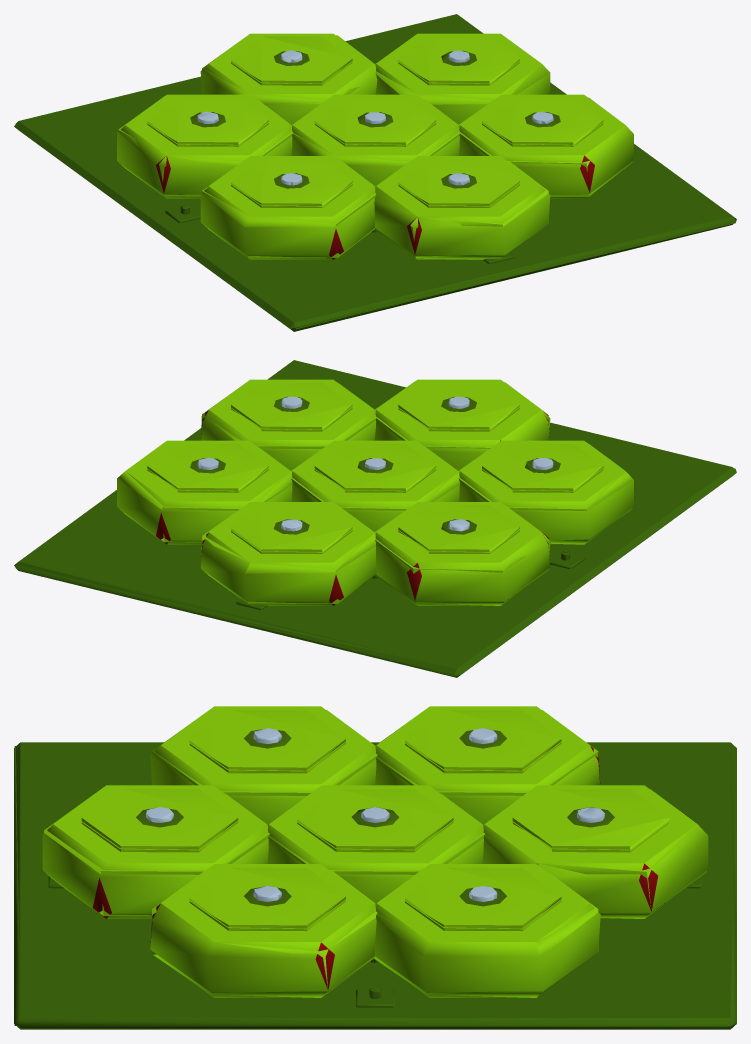
File: RCLModule_tidebreaker_skirmisher_cryo_glacier_camo_era_LODs.fbx
3 views of the same model, one above another, from view 1: azimuth 30°, elevation 25°; view 2: azimuth 150°, elevation 25°; view 3: azimuth 270°, elevation 25° (orthographic). The views are drawn at different scales.
Parts seen in each view (by area): view 1: LOD1_RCLModule_tidebreaker_skirmisher_cryo_glacier_camo_era_ (×3), LOD2_RCLModule_tidebreaker_skirmisher_cryo_glacier_camo_era_ (×2); view 2: LOD1_RCLModule_tidebreaker_skirmisher_cryo_glacier_camo_era_ (×3), LOD2_RCLModule_tidebreaker_skirmisher_cryo_glacier_camo_era_ (×2); view 3: LOD1_RCLModule_tidebreaker_skirmisher_cryo_glacier_camo_era_ (×3), LOD2_RCLModule_tidebreaker_skirmisher_cryo_glacier_camo_era_ (×2).
Boxes of the visible parts, bbox=[...] form: LOD1_RCLModule_tidebreaker_skirmisher_cryo_glacier_camo_era_ (×3): bbox=[14, 14, 736, 331]; LOD2_RCLModule_tidebreaker_skirmisher_cryo_glacier_camo_era_ (×2): bbox=[118, 35, 736, 328]; LOD1_RCLModule_tidebreaker_skirmisher_cryo_glacier_camo_era_ (×3): bbox=[14, 360, 736, 677]; LOD2_RCLModule_tidebreaker_skirmisher_cryo_glacier_camo_era_ (×2): bbox=[14, 381, 736, 676]; LOD1_RCLModule_tidebreaker_skirmisher_cryo_glacier_camo_era_ (×3): bbox=[14, 706, 736, 1029]; LOD2_RCLModule_tidebreaker_skirmisher_cryo_glacier_camo_era_ (×2): bbox=[14, 710, 736, 1026].
Size of the model in its own units: 41.02 by 5.6 by 44.58.
